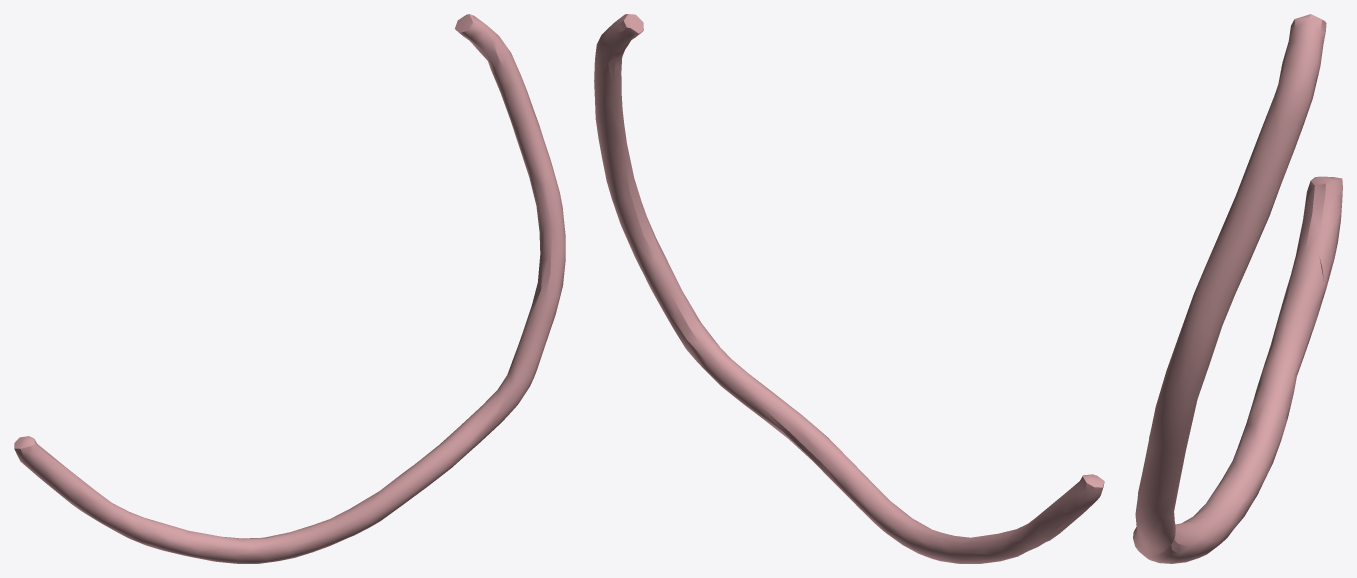
Rendered from fma84618_mm516.glb.
3 renders of one model, left to right at view 1: azimuth 30°, elevation 25°; view 2: azimuth 150°, elevation 25°; view 3: azimuth 270°, elevation 25°, orthographic. The views are drawn at different scales.
Parts seen in each view (by area): view 1: FMA84618_MM516; view 2: FMA84618_MM516; view 3: FMA84618_MM516.
Boxes of the visible parts, x1=… form: FMA84618_MM516: x1=14, y1=14, x2=565, y2=563; FMA84618_MM516: x1=594, y1=14, x2=1104, y2=563; FMA84618_MM516: x1=1133, y1=14, x2=1342, y2=563.
Size of the model in its own units: 0.0227 by 0.0201 by 0.00544.
